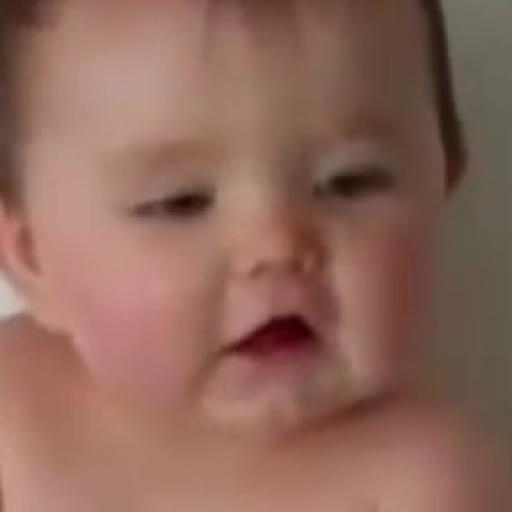Autism: (6, 12, 456, 462)
